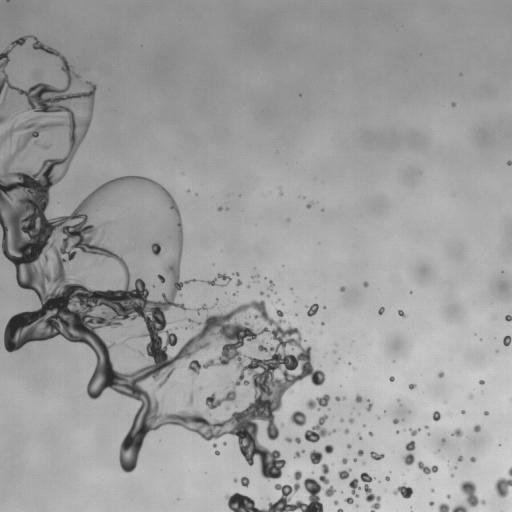droplet: (304, 414, 339, 443), (306, 394, 331, 411), (392, 481, 413, 498), (288, 410, 307, 426), (304, 303, 318, 316), (338, 468, 351, 480), (57, 110, 68, 121), (42, 111, 53, 122), (5, 140, 16, 151), (76, 142, 87, 153), (43, 208, 54, 219), (241, 292, 252, 303), (30, 299, 41, 310), (384, 306, 395, 317), (162, 307, 173, 318), (86, 357, 97, 368), (396, 377, 407, 388), (314, 384, 325, 395), (129, 398, 140, 409), (475, 414, 486, 425), (256, 418, 267, 429), (303, 419, 314, 430), (161, 423, 172, 434), (461, 423, 472, 434), (294, 425, 305, 436), (143, 431, 154, 442), (255, 433, 266, 444), (313, 440, 324, 451), (348, 468, 359, 479), (326, 470, 337, 481), (299, 492, 310, 503), (456, 493, 467, 504), (451, 427, 463, 437), (408, 427, 420, 436), (354, 393, 364, 403), (324, 444, 334, 454), (432, 410, 441, 421), (240, 476, 249, 487), (503, 335, 511, 346), (69, 63, 78, 72), (13, 305, 22, 314), (208, 307, 217, 316), (186, 309, 195, 318), (267, 309, 276, 318), (198, 312, 207, 321), (24, 340, 33, 349), (310, 361, 319, 370), (103, 386, 112, 395), (280, 392, 289, 401), (299, 404, 308, 413), (353, 416, 362, 425), (322, 420, 331, 429), (117, 430, 126, 439), (346, 433, 355, 442), (352, 440, 361, 449), (289, 441, 298, 450), (301, 452, 310, 461), (320, 453, 329, 462), (463, 473, 472, 482), (276, 476, 285, 485), (238, 486, 247, 495), (473, 488, 482, 497), (273, 490, 282, 499), (316, 490, 325, 499), (287, 495, 296, 504), (338, 500, 347, 509), (0, 114, 8, 123), (397, 309, 406, 317), (505, 323, 511, 334), (321, 505, 332, 511), (343, 505, 354, 511), (465, 505, 476, 511), (306, 201, 314, 209), (235, 279, 242, 287), (437, 370, 444, 378), (473, 424, 480, 432), (341, 456, 348, 464), (0, 123, 5, 134), (0, 330, 5, 341), (378, 306, 384, 315), (408, 383, 417, 389), (38, 36, 45, 43), (51, 43, 58, 50), (80, 74, 87, 81), (93, 90, 100, 97), (20, 94, 27, 101), (47, 186, 54, 193), (176, 202, 183, 209), (64, 209, 71, 216), (7, 261, 14, 268), (178, 274, 185, 281), (230, 275, 237, 282), (26, 288, 33, 295), (254, 295, 261, 302), (173, 296, 180, 303), (222, 307, 229, 314), (271, 313, 278, 320), (78, 341, 85, 348), (300, 341, 307, 348), (11, 349, 18, 356), (309, 350, 316, 357), (87, 367, 94, 374), (304, 374, 311, 381), (293, 380, 300, 387), (327, 398, 334, 405), (360, 400, 367, 407), (320, 406, 327, 413), (342, 420, 349, 427), (347, 423, 354, 430), (174, 424, 181, 431), (336, 429, 343, 436), (361, 431, 368, 438), (276, 433, 283, 440), (231, 434, 238, 441), (405, 434, 412, 441), (215, 437, 222, 444), (300, 438, 307, 445), (294, 443, 301, 450), (362, 451, 369, 458), (252, 453, 259, 460), (462, 455, 469, 462), (135, 458, 142, 465), (346, 459, 353, 466), (114, 462, 121, 469), (134, 463, 141, 470), (340, 463, 347, 470), (300, 472, 307, 479), (503, 473, 510, 480), (312, 474, 319, 481), (344, 476, 351, 483), (270, 477, 277, 484), (297, 478, 304, 485), (357, 479, 364, 486), (371, 488, 378, 495), (491, 489, 498, 496), (359, 490, 366, 497), (331, 492, 338, 499), (253, 501, 260, 508), (447, 503, 454, 510), (348, 416, 354, 424), (506, 484, 511, 493), (430, 506, 439, 511), (505, 314, 511, 321), (357, 449, 363, 456), (469, 456, 476, 462), (428, 500, 434, 506), (363, 281, 368, 287), (340, 286, 345, 292), (478, 379, 484, 384), (344, 428, 349, 434), (368, 431, 373, 437), (346, 443, 351, 449), (294, 507, 301, 511), (506, 160, 511, 165), (217, 206, 222, 211), (332, 349, 337, 354), (389, 376, 394, 381), (468, 394, 473, 399), (339, 417, 344, 422), (233, 478, 238, 483), (446, 494, 451, 499), (333, 500, 338, 505), (14, 34, 19, 39), (59, 50, 64, 55), (66, 59, 71, 64), (91, 79, 96, 84), (12, 89, 17, 94), (92, 103, 97, 108), (91, 113, 96, 118), (89, 121, 94, 126), (13, 122, 18, 127), (85, 131, 90, 136), (65, 170, 70, 175), (121, 171, 126, 176), (137, 171, 142, 176), (116, 172, 121, 177), (143, 172, 148, 177), (110, 174, 115, 179), (150, 175, 155, 180), (105, 176, 110, 181), (99, 179, 104, 184), (93, 183, 98, 188), (88, 187, 93, 192), (166, 187, 171, 192), (189, 190, 194, 195), (170, 192, 175, 197), (172, 195, 177, 200), (304, 198, 309, 203), (301, 204, 306, 209), (310, 204, 315, 209), (178, 208, 183, 213), (180, 219, 185, 224), (182, 232, 187, 237), (181, 244, 186, 249), (180, 254, 185, 259), (255, 268, 260, 273), (225, 271, 230, 276), (208, 275, 213, 280), (238, 275, 243, 280), (258, 275, 263, 280), (362, 276, 367, 281), (12, 279, 17, 284), (367, 280, 372, 285), (249, 282, 254, 287), (358, 282, 363, 287), (272, 285, 277, 290), (220, 286, 225, 291), (363, 286, 368, 291), (335, 287, 340, 292), (175, 289, 180, 294), (263, 289, 268, 294), (341, 290, 346, 295), (276, 292, 281, 297), (33, 294, 38, 299), (205, 302, 210, 307), (232, 303, 237, 308), (317, 306, 322, 311), (177, 307, 182, 312), (402, 308, 407, 313), (281, 314, 286, 319), (310, 314, 315, 319), (290, 323, 295, 328), (297, 327, 302, 332), (476, 332, 481, 337), (56, 333, 61, 338), (300, 333, 305, 338), (48, 337, 53, 342), (44, 338, 49, 343), (40, 339, 45, 344), (330, 344, 335, 349), (334, 352, 339, 357), (434, 368, 439, 373), (439, 376, 444, 381), (409, 379, 414, 384), (116, 392, 121, 397), (318, 392, 323, 397), (84, 393, 89, 398), (351, 393, 356, 398), (121, 394, 126, 399), (361, 394, 366, 399), (95, 396, 100, 401), (89, 397, 94, 402), (303, 397, 308, 402), (370, 405, 375, 410), (438, 409, 443, 414), (428, 412, 433, 417), (351, 413, 356, 418), (395, 414, 400, 419), (343, 417, 348, 422), (437, 418, 442, 423), (431, 419, 436, 424), (388, 420, 393, 425), (291, 422, 296, 427), (470, 422, 475, 427), (393, 423, 398, 428), (159, 425, 164, 430), (411, 425, 416, 430), (479, 426, 484, 431), (420, 427, 425, 432), (449, 427, 454, 432), (476, 430, 481, 435), (415, 431, 420, 436), (195, 433, 200, 438), (290, 434, 295, 439), (452, 434, 457, 439), (409, 435, 414, 440), (300, 436, 305, 441), (200, 437, 205, 442), (210, 437, 215, 442), (291, 440, 296, 445), (413, 442, 418, 447), (215, 445, 220, 450), (331, 448, 336, 453), (376, 449, 381, 454), (290, 451, 295, 456), (470, 451, 475, 456), (353, 452, 358, 457), (453, 453, 458, 458), (239, 454, 244, 459), (356, 455, 361, 460), (371, 458, 376, 463), (378, 458, 383, 463), (399, 458, 404, 463), (412, 460, 417, 465), (467, 460, 472, 465), (456, 461, 461, 466), (427, 463, 432, 468), (327, 465, 332, 470), (280, 467, 285, 472), (361, 467, 366, 472), (417, 468, 422, 473), (451, 468, 456, 473), (367, 471, 372, 476), (429, 471, 434, 476), (307, 473, 312, 478), (324, 473, 329, 478), (355, 474, 360, 479), (236, 475, 241, 480), (248, 479, 253, 484), (236, 480, 241, 485), (318, 480, 323, 485), (367, 481, 372, 486), (398, 481, 403, 486), (404, 482, 409, 487), (347, 486, 352, 491), (411, 487, 416, 492), (354, 488, 359, 493), (229, 490, 234, 495), (396, 491, 401, 496), (347, 492, 352, 497), (410, 492, 415, 497), (403, 497, 408, 502), (223, 498, 228, 503), (378, 499, 383, 504), (349, 502, 354, 507), (476, 502, 481, 507), (264, 504, 269, 509), (334, 504, 339, 509), (483, 411, 489, 415), (0, 46, 3, 53), (0, 72, 3, 79), (0, 92, 3, 99), (0, 109, 3, 116), (0, 167, 3, 174), (0, 228, 3, 235), (0, 248, 3, 255), (259, 291, 264, 295), (424, 425, 429, 429), (385, 476, 389, 481), (337, 508, 343, 511), (451, 102, 455, 106), (286, 218, 290, 222), (246, 284, 250, 288), (289, 287, 293, 291), (320, 321, 324, 325), (319, 331, 323, 335), (495, 349, 499, 353), (461, 410, 465, 414), (441, 438, 445, 442), (361, 461, 365, 465), (450, 473, 454, 477), (430, 488, 434, 492), (223, 441, 226, 446), (353, 457, 356, 462), (410, 506, 413, 511), (374, 508, 379, 511), (186, 189, 190, 192), (281, 302, 285, 305), (322, 306, 326, 309), (294, 313, 298, 316), (334, 343, 338, 346), (352, 367, 356, 370), (199, 386, 202, 390), (443, 400, 447, 403), (376, 416, 380, 419), (280, 423, 284, 426), (362, 424, 366, 427), (396, 430, 399, 434), (427, 432, 430, 436), (266, 496, 269, 500), (0, 226, 2, 231), (459, 72, 462, 75), (195, 193, 198, 196), (225, 207, 228, 210), (321, 208, 324, 211), (281, 264, 284, 267), (264, 276, 267, 279), (409, 291, 412, 294), (266, 294, 269, 297), (479, 338, 482, 341), (335, 361, 338, 364), (392, 360, 395, 363), (348, 362, 351, 365), (408, 410, 411, 413), (357, 412, 360, 415), (403, 428, 406, 431), (311, 471, 314, 474), (378, 480, 381, 483), (6, 1, 9, 4), (33, 33, 36, 36), (9, 44, 12, 47), (77, 72, 80, 75), (87, 78, 90, 81), (300, 91, 303, 94), (296, 95, 299, 98), (452, 99, 455, 102), (455, 102, 458, 105), (448, 103, 451, 106), (27, 104, 30, 107), (452, 106, 455, 109), (30, 108, 33, 111), (42, 111, 45, 114), (27, 121, 30, 124), (6, 137, 9, 140), (504, 163, 507, 166), (131, 172, 134, 175), (163, 185, 166, 188), (183, 188, 186, 191), (276, 189, 279, 192), (281, 189, 284, 192), (187, 191, 190, 194), (299, 195, 302, 198), (215, 204, 218, 207), (221, 208, 224, 211), (235, 268, 238, 271), (503, 270, 506, 273), (220, 271, 223, 274), (238, 271, 241, 274), (251, 272, 254, 275), (500, 272, 503, 275), (189, 276, 192, 279), (194, 276, 197, 279), (199, 276, 202, 279), (253, 277, 256, 280), (266, 277, 269, 280), (189, 280, 192, 283), (272, 280, 275, 283), (266, 282, 269, 285), (340, 283, 343, 286), (212, 284, 215, 287), (238, 284, 241, 287), (289, 284, 292, 287), (292, 287, 295, 290), (344, 287, 347, 290), (232, 289, 235, 292), (288, 289, 291, 292), (406, 289, 409, 292), (411, 291, 414, 294), (235, 292, 238, 295), (232, 295, 235, 298), (218, 297, 221, 300), (213, 299, 216, 302), (278, 300, 281, 303), (314, 300, 317, 303), (198, 304, 201, 307), (383, 305, 386, 308), (376, 307, 379, 310), (280, 308, 283, 311), (198, 309, 201, 312), (294, 309, 297, 312), (375, 311, 378, 314), (382, 311, 385, 314), (395, 311, 398, 314), (304, 312, 307, 315), (504, 312, 507, 315), (502, 317, 505, 320), (323, 320, 326, 323), (321, 324, 324, 327), (500, 337, 503, 340), (492, 350, 495, 353), (337, 359, 340, 362), (349, 359, 352, 362), (344, 361, 347, 364), (350, 363, 353, 366), (440, 368, 443, 371), (391, 373, 394, 376), (481, 377, 484, 380), (386, 378, 389, 381), (393, 378, 396, 381), (478, 383, 481, 386), (405, 385, 408, 388), (411, 388, 414, 391), (399, 400, 402, 403), (396, 401, 399, 404), (384, 407, 387, 410), (462, 407, 465, 410), (484, 407, 487, 410), (380, 409, 383, 412), (458, 409, 461, 412), (384, 411, 387, 414), (480, 411, 483, 414), (460, 413, 463, 416), (484, 414, 487, 417), (391, 416, 394, 419), (362, 420, 365, 423), (359, 423, 362, 426), (371, 430, 374, 433), (392, 430, 395, 433), (398, 430, 401, 433), (429, 433, 432, 436), (367, 434, 370, 437), (440, 435, 443, 438), (355, 436, 358, 439), (358, 439, 361, 442), (497, 440, 500, 443), (348, 441, 351, 444), (442, 441, 445, 444), (343, 444, 346, 447), (499, 445, 502, 448), (345, 447, 348, 450), (372, 448, 375, 451), (299, 452, 302, 455), (459, 452, 462, 455), (214, 454, 217, 457), (454, 457, 457, 460), (436, 464, 439, 467), (436, 469, 439, 472), (242, 473, 245, 476), (336, 473, 339, 476), (386, 473, 389, 476), (447, 474, 450, 477), (389, 476, 392, 479), (230, 478, 233, 481), (383, 479, 386, 482), (247, 483, 250, 486), (433, 487, 436, 490), (427, 488, 430, 491), (448, 491, 451, 494), (428, 498, 431, 501), (431, 498, 434, 501), (484, 498, 487, 501), (427, 504, 430, 507), (407, 507, 410, 510), (411, 507, 414, 510), (299, 93, 301, 96), (238, 194, 240, 197), (303, 196, 305, 199), (501, 270, 503, 273), (509, 398, 511, 401), (498, 444, 501, 446), (437, 449, 440, 451), (389, 470, 391, 473), (509, 158, 511, 161), (509, 164, 511, 167), (509, 313, 511, 316), (509, 319, 511, 322), (509, 334, 511, 337), (509, 341, 511, 344), (212, 263, 214, 265), (294, 300, 296, 302), (474, 333, 476, 335), (338, 357, 340, 359), (225, 386, 227, 388), (350, 412, 352, 414), (158, 439, 160, 441), (331, 463, 333, 465), (177, 498, 179, 500), (162, 230, 164, 231), (224, 292, 226, 293), (341, 491, 342, 493), (429, 478, 430, 479)
ligament: (459, 480, 486, 507), (494, 466, 511, 497), (401, 440, 415, 465), (416, 461, 438, 474), (438, 502, 467, 511), (33, 140, 52, 149), (344, 497, 359, 507), (250, 267, 259, 283), (284, 436, 302, 444), (370, 451, 385, 460), (453, 455, 462, 469), (293, 449, 305, 458), (186, 391, 193, 406), (212, 443, 220, 455), (365, 398, 372, 411), (392, 418, 404, 424), (334, 396, 346, 401), (396, 398, 402, 406), (278, 186, 283, 195), (275, 297, 281, 303), (357, 433, 362, 440), (231, 272, 239, 276), (232, 290, 238, 295), (134, 262, 140, 265), (384, 410, 386, 414), (6, 0, 10, 1)
